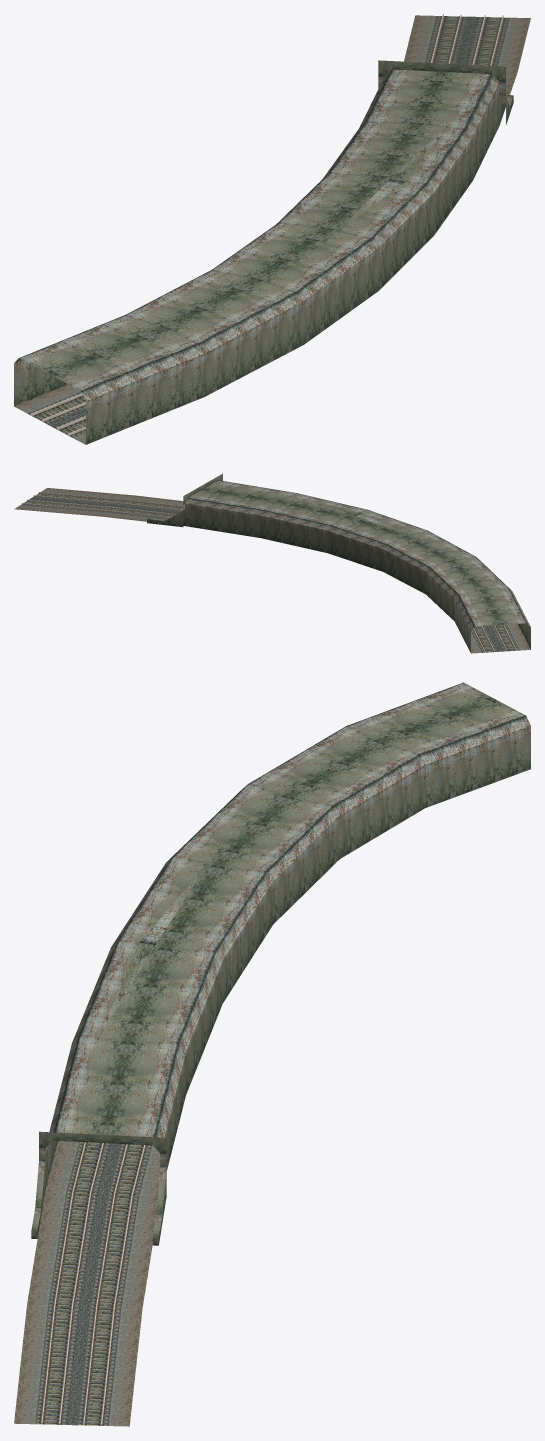
Rendered from cuntwrail10.obj.
The picture shows the model from 3 angles, top to bottom: view 1: azimuth 90°, elevation 25°; view 2: azimuth 150°, elevation 25°; view 3: azimuth 270°, elevation 25°; orthographic projection. The views are drawn at different scales.
Visible parts, largest first — view 1: cuntwrail10; view 2: cuntwrail10; view 3: cuntwrail10.
Boxes of the visible parts, <box> form: cuntwrail10: <box>14,14,530,444</box>; cuntwrail10: <box>14,473,530,653</box>; cuntwrail10: <box>14,682,530,1426</box>.
Size of the model in its own units: 127 by 19.57 by 49.29.
